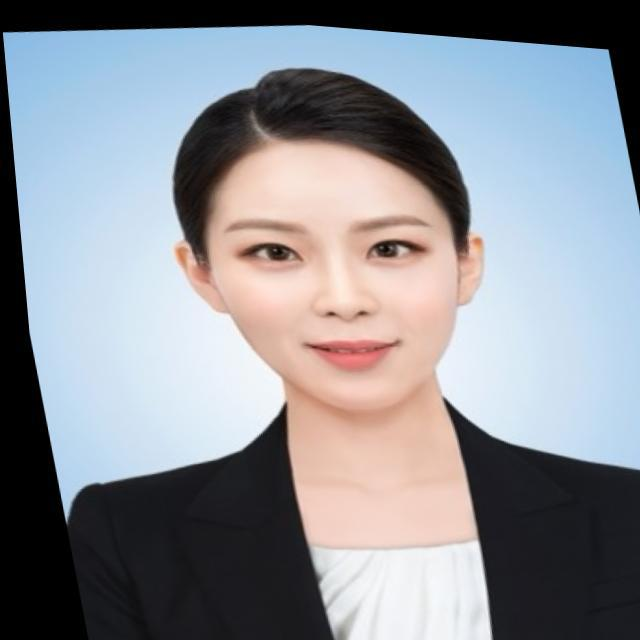Nonhelmet: (166, 63, 490, 416)
